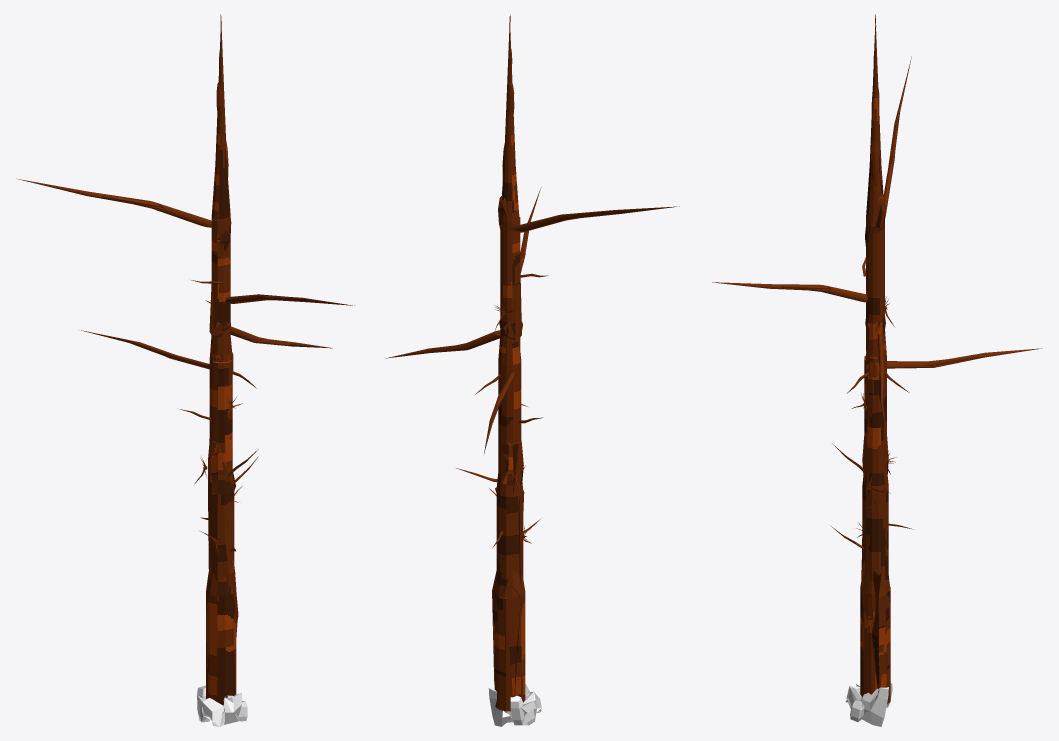
The model's file is Tree.gltf.
The picture shows the model from 3 angles, left to right: view 1: azimuth 30°, elevation 25°; view 2: azimuth 150°, elevation 25°; view 3: azimuth 270°, elevation 25°; orthographic projection.
Parts seen in each view (by area): view 1: Tree-col, Below_Tree; view 2: Tree-col, Below_Tree; view 3: Tree-col, Below_Tree.
Boxes of the visible parts, x1,y1,x2,y2 form: Tree-col: (16, 14, 354, 705); Below_Tree: (197, 685, 247, 726); Tree-col: (385, 14, 679, 711); Below_Tree: (488, 683, 541, 726); Tree-col: (712, 14, 1042, 703); Below_Tree: (845, 681, 892, 726).
Size of the model in its own units: 11.71 by 25.77 by 11.08.
Materials: 2 (1 with a texture image).
